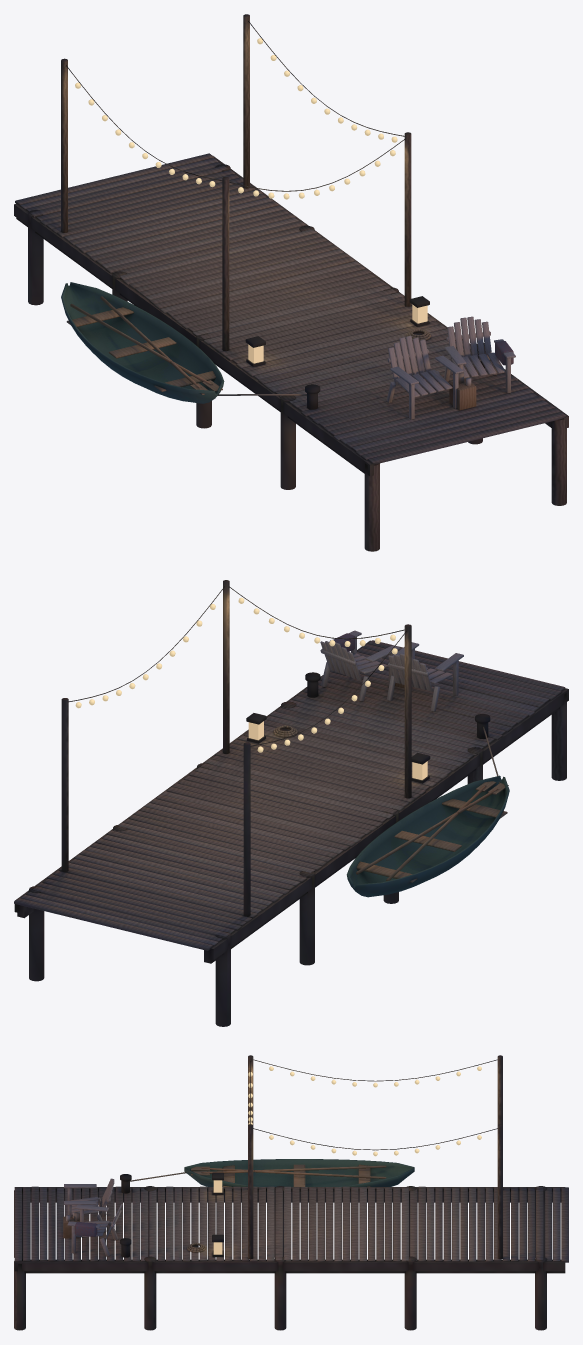
File: lakeside.glb
3 views of the same model, one above another, from view 1: azimuth 30°, elevation 25°; view 2: azimuth 150°, elevation 25°; view 3: azimuth 270°, elevation 25° (orthographic). The views are drawn at different scales.
Parts seen in each view (by area): view 1: pontoon, things, lights; view 2: pontoon, things, lights; view 3: pontoon, things, lights.
Part boxes in pixels (x1,y1,x2,y2): pontoon: (14,153,568,551); things: (61,14,515,419); lights: (75,38,427,363); pontoon: (14,640,568,1026); things: (61,580,509,916); lights: (75,597,427,779); pontoon: (14,1186,568,1330); things: (63,1055,502,1259); lights: (213,1066,481,1254).
Size of the model in its own units: 4.67 by 4.1 by 10.22.
Materials: 5 (2 with a texture image).
